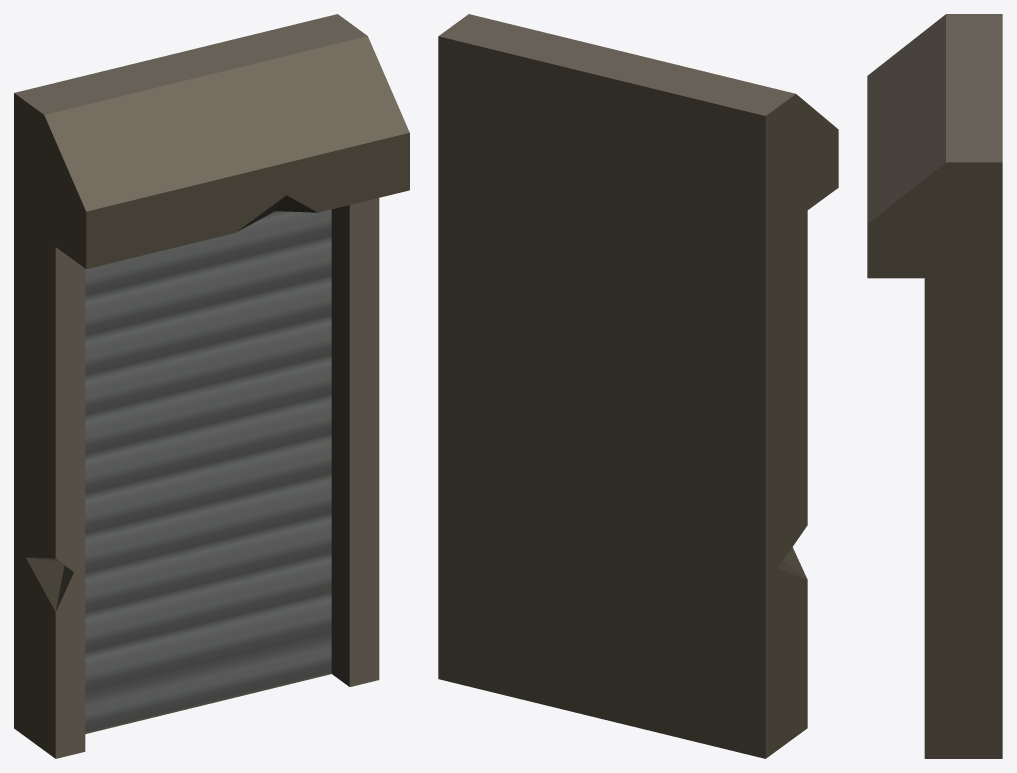
Rendered from Door_C04.fbx.
The picture shows the model from 3 angles, left to right: view 1: azimuth 30°, elevation 25°; view 2: azimuth 150°, elevation 25°; view 3: azimuth 270°, elevation 25°; orthographic projection. The views are drawn at different scales.
Parts seen in each view (by area): view 1: Door_C04; view 2: Door_C04; view 3: Door_C04.
Boxes of the visible parts, x1,y1,x2,y2 form: Door_C04: (14,14,409,758); Door_C04: (438,14,838,758); Door_C04: (867,14,1002,758).
Size of the model in its own units: 201 by 377 by 77.55.
